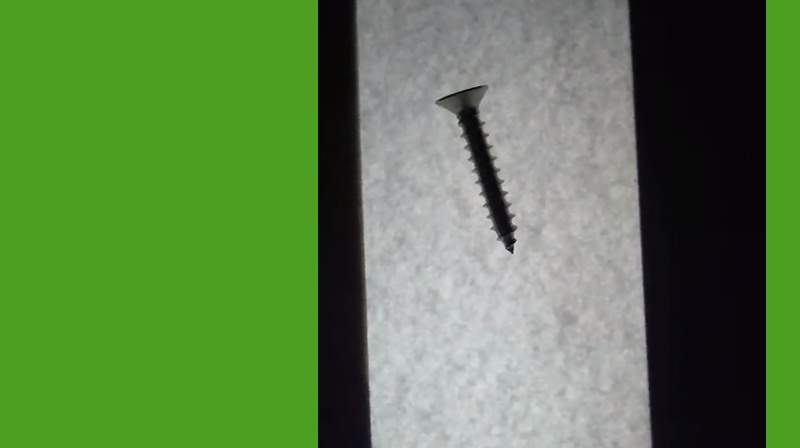S001: (434, 80, 518, 259)
